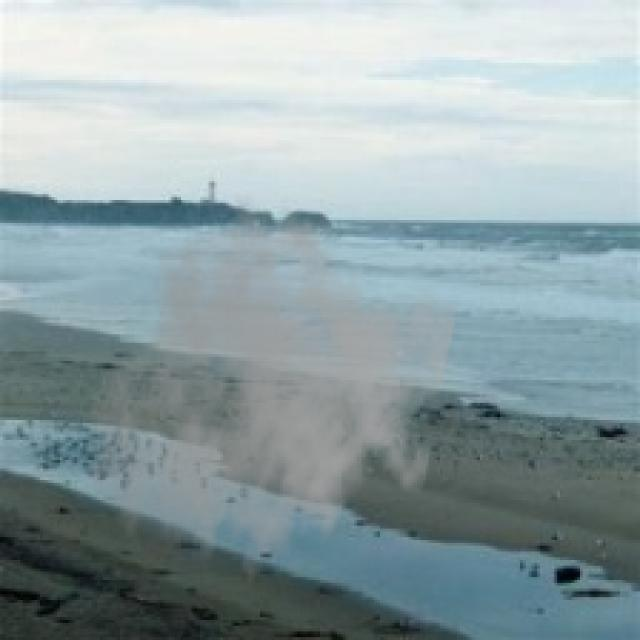smoke: (83, 188, 460, 603)
